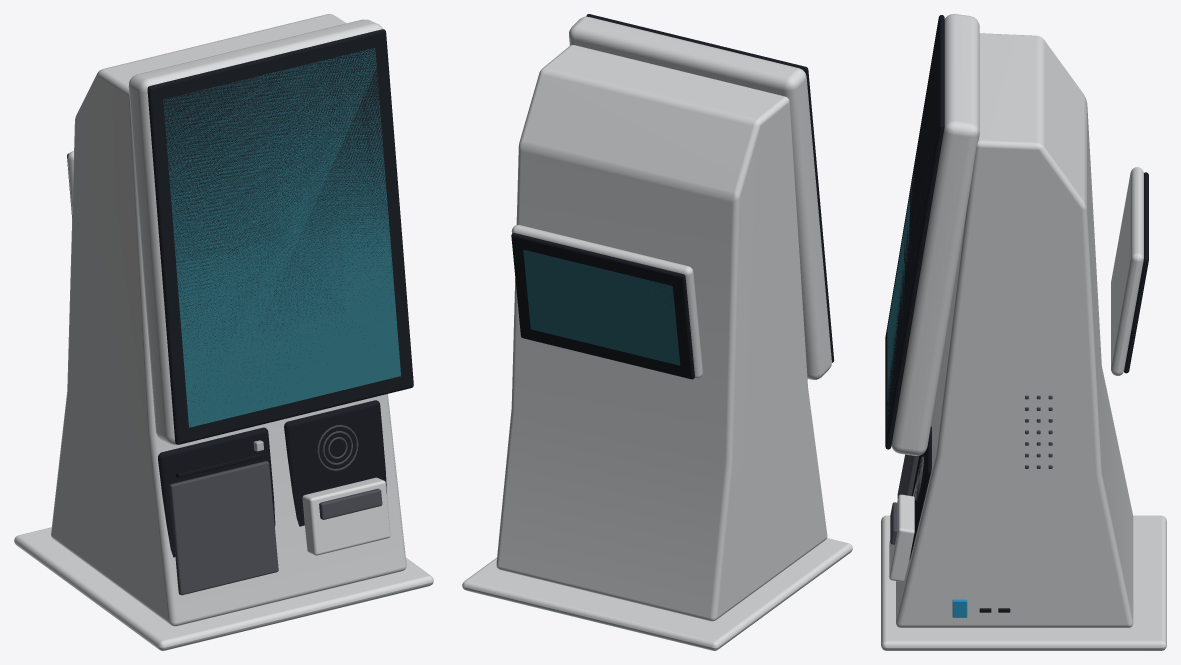
The picture shows the model from 3 angles, left to right: view 1: azimuth 30°, elevation 25°; view 2: azimuth 150°, elevation 25°; view 3: azimuth 270°, elevation 25°; orthographic projection. The views are drawn at different scales.
Parts seen in each view (by area): view 1: Screen_Main, Continuous G2 enclosure, Screen_MainBezel, Printer door, Thin rounded plinth, Screen_MainSilverEdge, Contactless and scanner panel, Scanner white surround, Printer recessed panel, Scanner glass window; view 2: Continuous G2 enclosure, Screen_MainSilverEdge, Screen_Rear, Thin rounded plinth, Screen_RearBezel, Screen_RearSilverEdge, Screen_MainBezel; view 3: Continuous G2 enclosure, Screen_MainSilverEdge, Thin rounded plinth, Screen_MainBezel, Screen_RearSilverEdge, Scanner white surround, Screen_Main, Screen_RearBezel, Contactless and scanner panel, Printer door.
Boxes of the visible parts, <box> form: Screen_Main: <box>163,48,400,427</box>; Continuous G2 enclosure: <box>51,14,406,626</box>; Screen_MainBezel: <box>147,29,413,444</box>; Printer door: <box>169,461,278,595</box>; Thin rounded plinth: <box>14,527,433,650</box>; Screen_MainSilverEdge: <box>128,19,382,444</box>; Contactless and scanner panel: <box>284,400,386,526</box>; Scanner white surround: <box>302,477,390,555</box>; Printer recessed panel: <box>158,427,275,557</box>; Scanner glass window: <box>319,488,382,519</box>; Continuous G2 enclosure: <box>496,45,827,621</box>; Screen_MainSilverEdge: <box>569,16,831,379</box>; Screen_Rear: <box>523,249,680,365</box>; Thin rounded plinth: <box>462,538,852,650</box>; Screen_RearBezel: <box>511,233,694,379</box>; Screen_RearSilverEdge: <box>511,225,702,378</box>; Screen_MainBezel: <box>586,14,834,362</box>; Continuous G2 enclosure: <box>896,33,1133,627</box>; Screen_MainSilverEdge: <box>891,14,979,455</box>; Thin rounded plinth: <box>881,515,1166,650</box>; Screen_MainBezel: <box>885,15,944,449</box>; Screen_RearSilverEdge: <box>1111,167,1143,375</box>; Scanner white surround: <box>889,494,914,582</box>; Screen_Main: <box>887,175,925,426</box>; Screen_RearBezel: <box>1124,172,1148,373</box>; Contactless and scanner panel: <box>909,426,931,559</box>; Printer door: <box>897,454,919,498</box>.
Bounding box in the file's own units: 0.31 × 0.5826 × 0.29.
